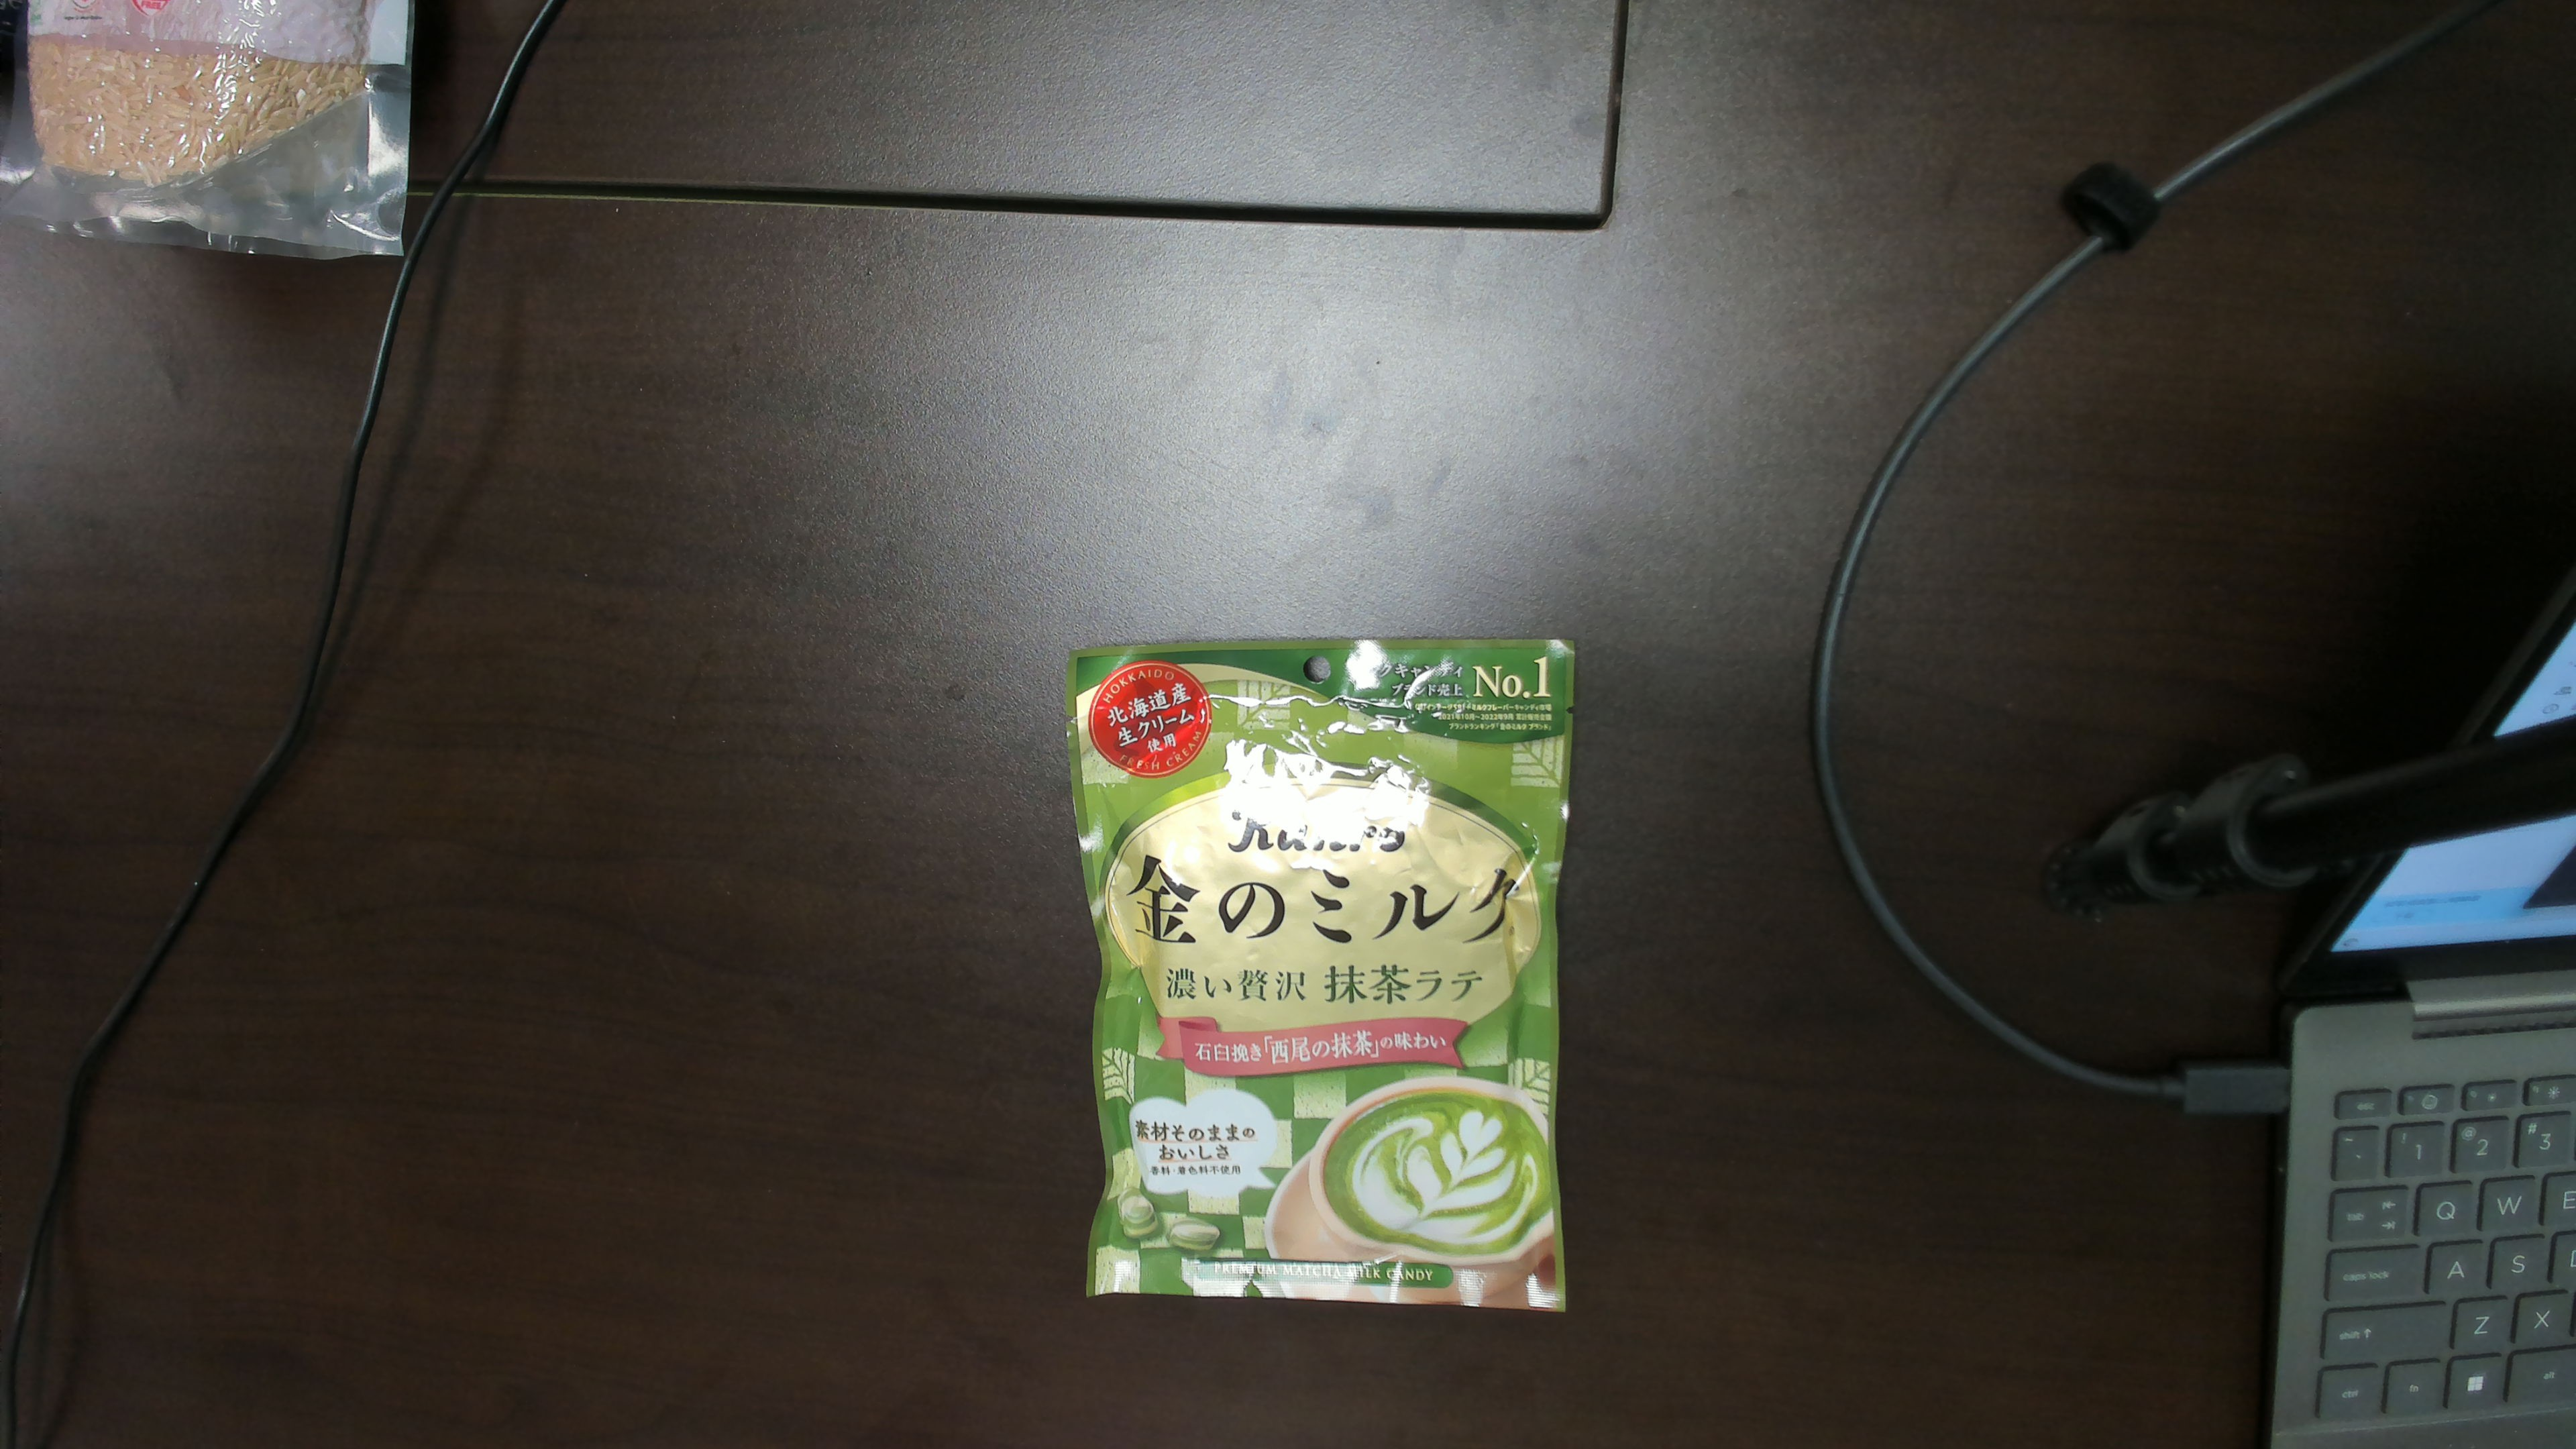SweetsChocolatesOthers_100-199g_NonHalal_NonHealthy: (1088, 655, 1560, 1307)
